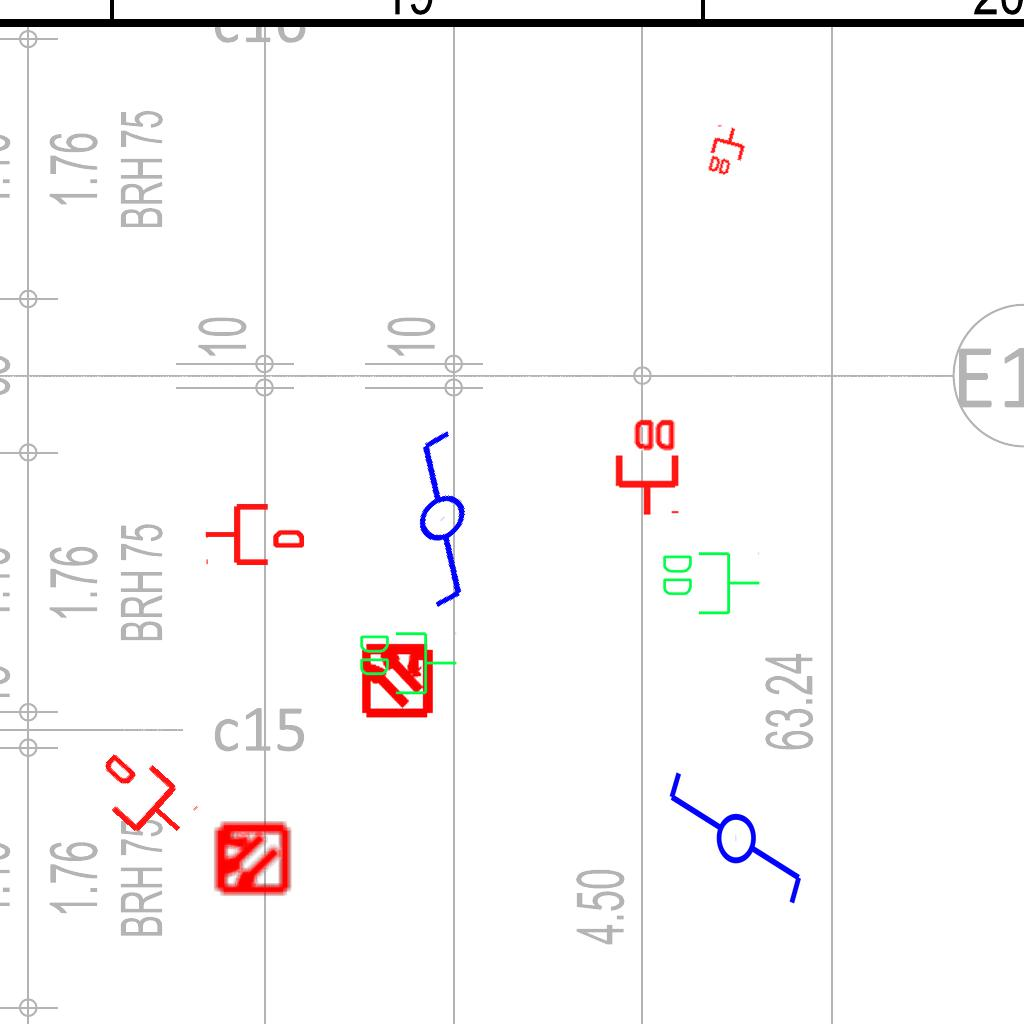Datenanschluss_einfach: (82, 737, 203, 857), (204, 500, 304, 569)
Datenanschluss_zweifach: (611, 415, 680, 518), (659, 548, 762, 617), (356, 628, 459, 697), (704, 122, 752, 181)
OT_Multisensormelder_(Kombination_RMO_WMD): (341, 622, 454, 735), (194, 802, 307, 915)
Wechselschalter: (343, 407, 556, 621), (662, 768, 806, 925)
